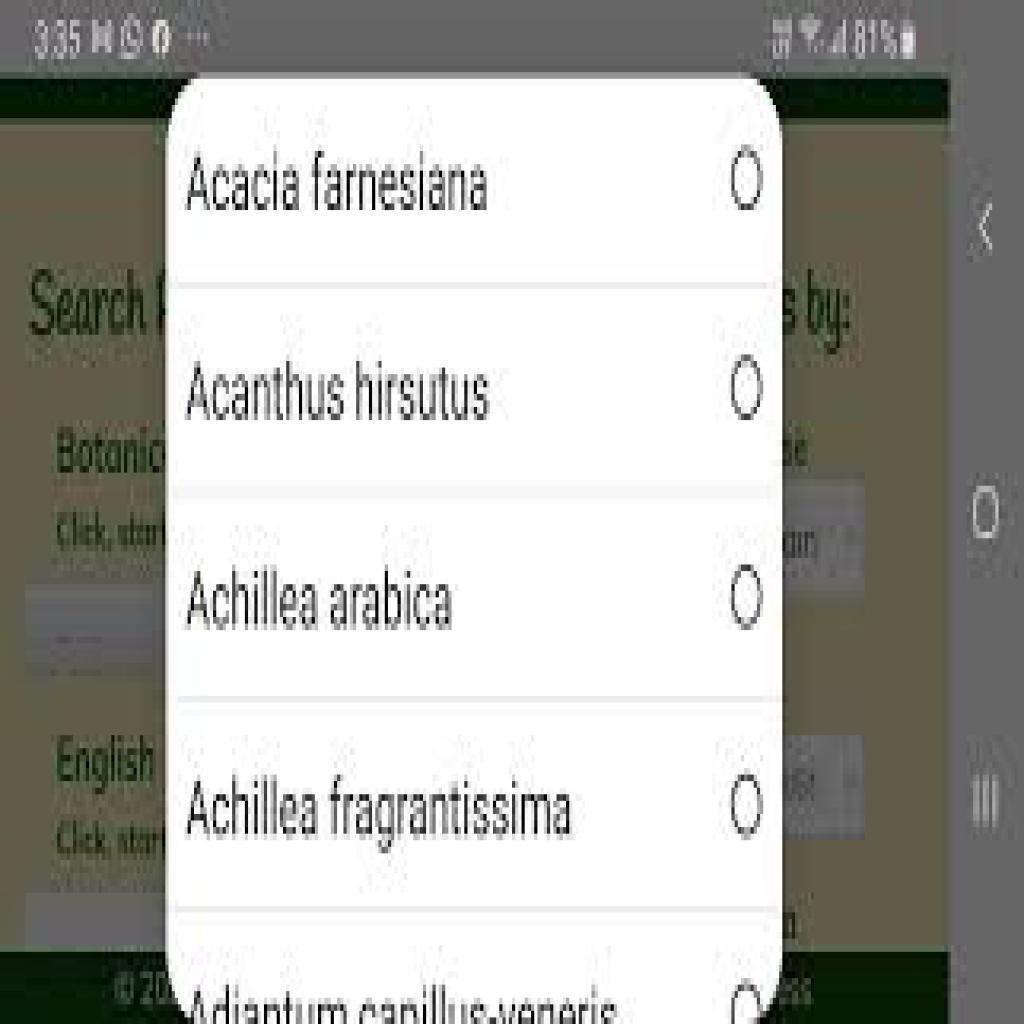radio: (725, 553, 771, 638), (725, 764, 769, 848), (726, 141, 770, 218), (728, 342, 767, 424)
